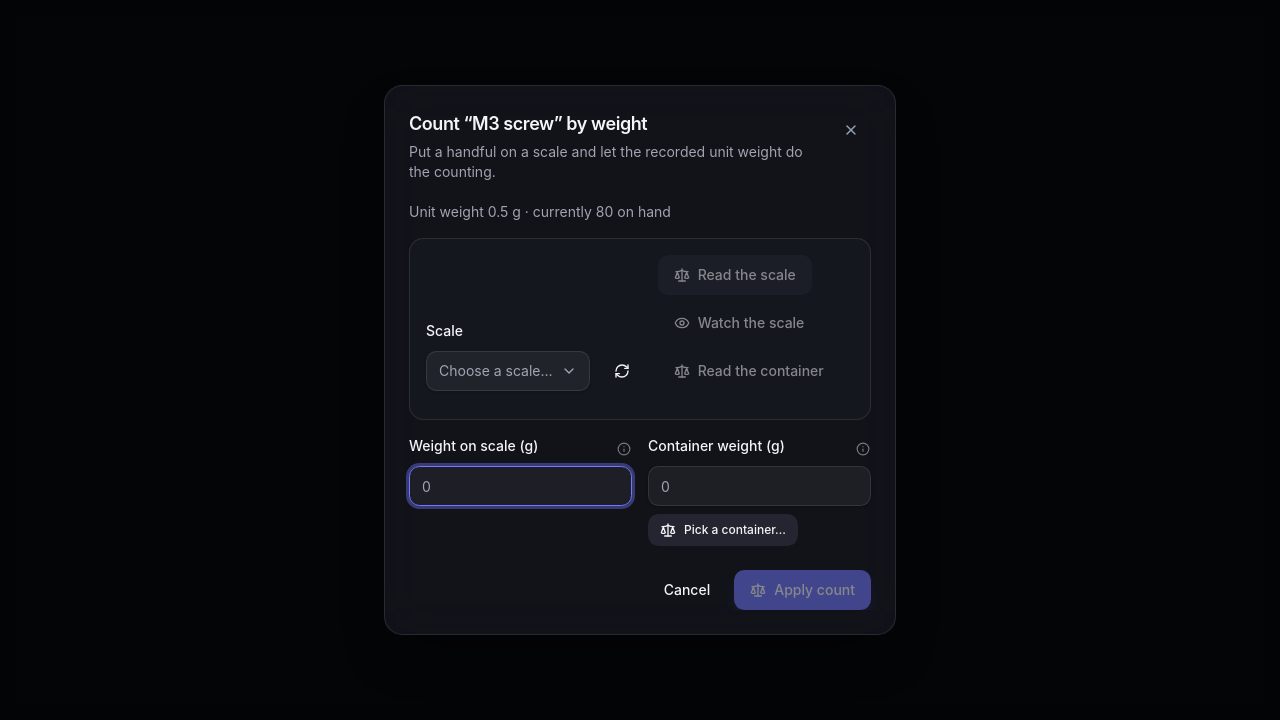
ScaleReadPanel (issue #122) › refreshing the scale list (issue #124 §4) › re-asks the bridge, so a scale just added in Home Assistant appears without a reload
This screenshot has width=1280, height=720.
Expected: the button with test id "scale-read" is shown, [658,255,812,295]
Click the button with test id "scale-refresh" at (622, 371), box [598,351,646,391]
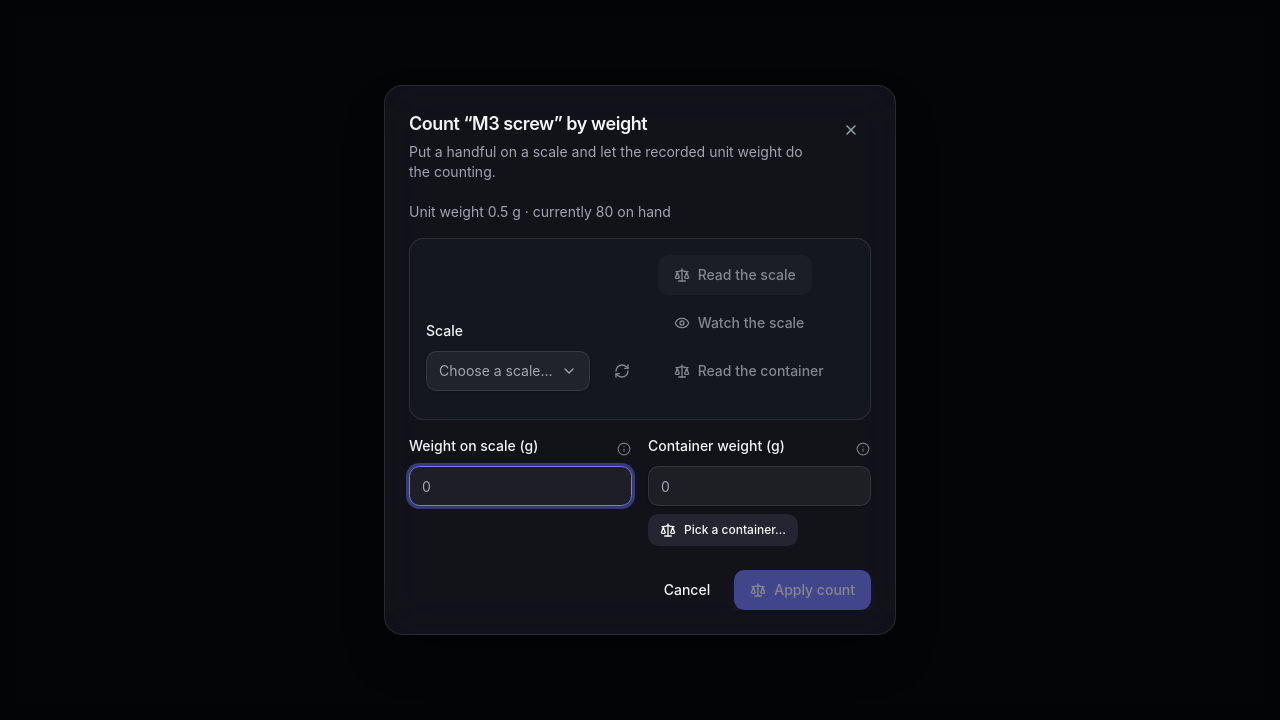
Click the dropdown with test id "scale-entity-select" at (508, 371), box [426,351,590,391]
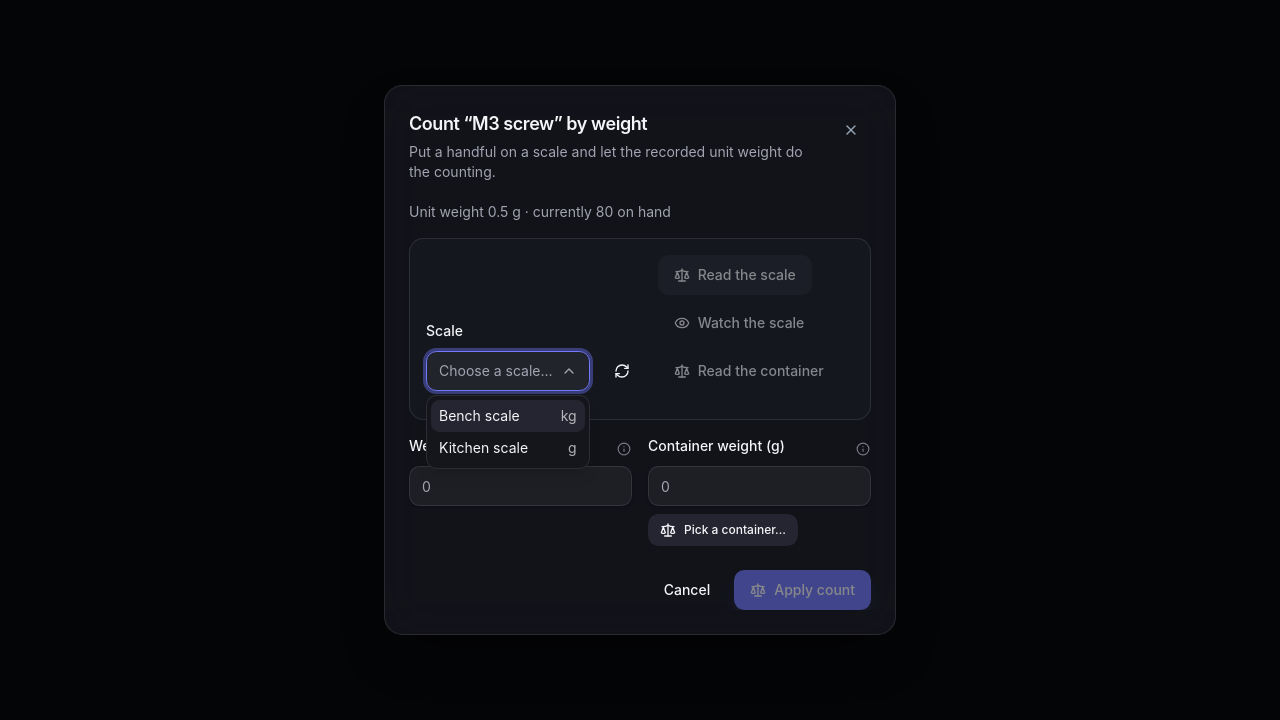
Now the text "Kitchen scale" is shown, box [439,439,528,456]
